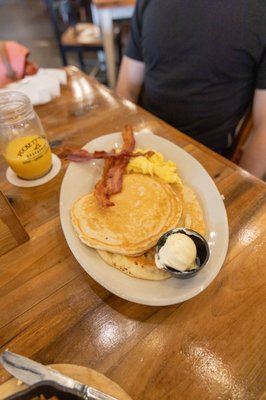salad: (1, 348, 134, 400)
